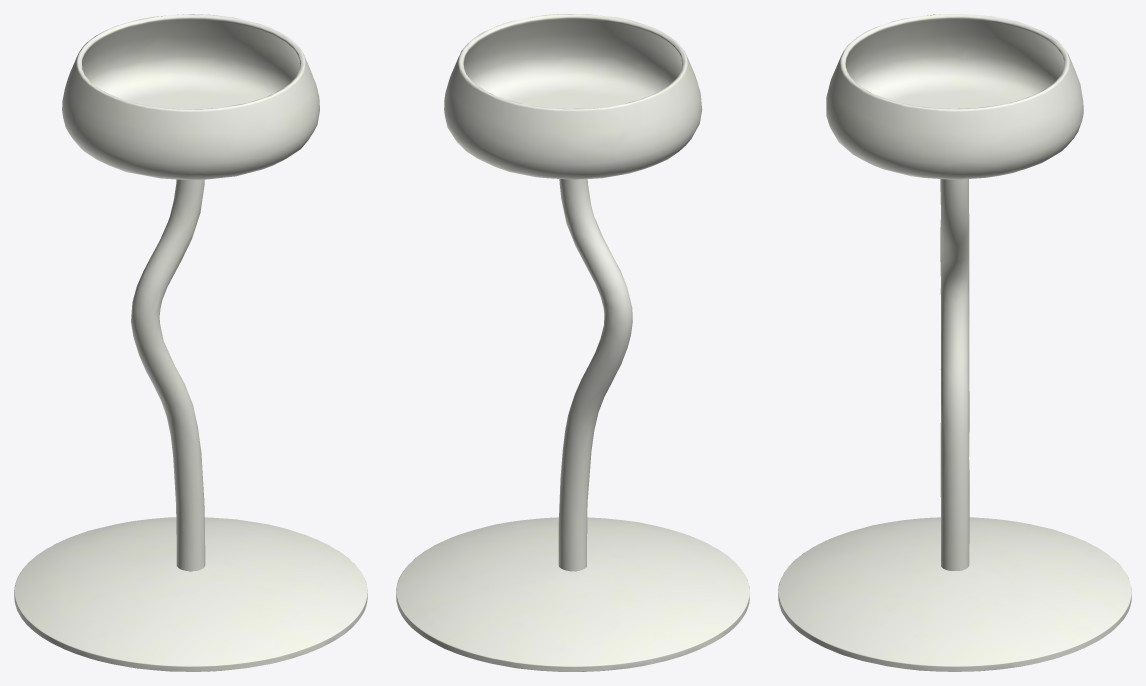
The model's file is silverparon_swiecznik_na_swiece_kolumnowa_30574983.glb.
3 renders of one model, left to right at view 1: azimuth 30°, elevation 25°; view 2: azimuth 150°, elevation 25°; view 3: azimuth 270°, elevation 25°, orthographic.
Visible parts, largest first — view 1: silverparon_swiecznik_na_swiece_kolumnowa_30574983; view 2: silverparon_swiecznik_na_swiece_kolumnowa_30574983; view 3: silverparon_swiecznik_na_swiece_kolumnowa_30574983.
Boxes of the visible parts, <box> form: silverparon_swiecznik_na_swiece_kolumnowa_30574983: <box>14,14,367,671</box>; silverparon_swiecznik_na_swiece_kolumnowa_30574983: <box>396,14,749,671</box>; silverparon_swiecznik_na_swiece_kolumnowa_30574983: <box>778,14,1131,671</box>.
Size of the model in its own units: 0.1201 by 0.2007 by 0.12.
1 material, 1 textured.
